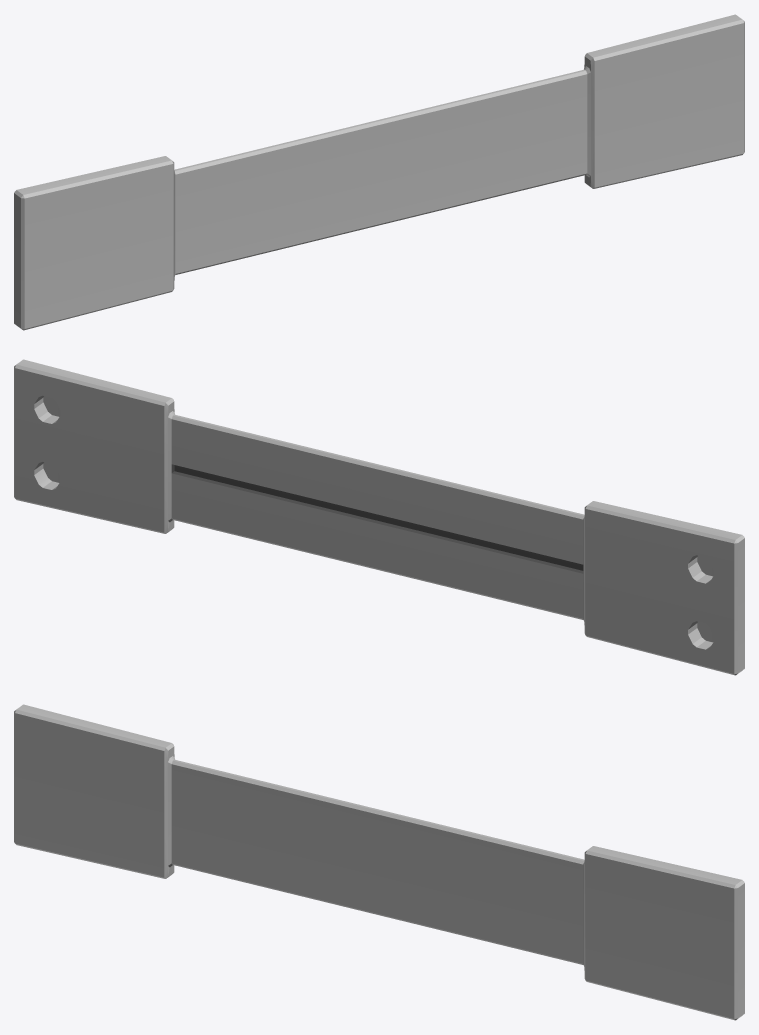
Rendered from Iron.fbx.
3 renders of one model, top to bottom at view 1: azimuth 30°, elevation 25°; view 2: azimuth 150°, elevation 25°; view 3: azimuth 330°, elevation 25°, orthographic.
Parts seen in each view (by area): view 1: Iron; view 2: Iron; view 3: Iron.
Part boxes in pixels (x1,y1,x2,y2): Iron: (14,14,744,330); Iron: (14,359,744,675); Iron: (14,704,744,1020).
Size of the model in its own units: 923 by 165 by 21.56.
